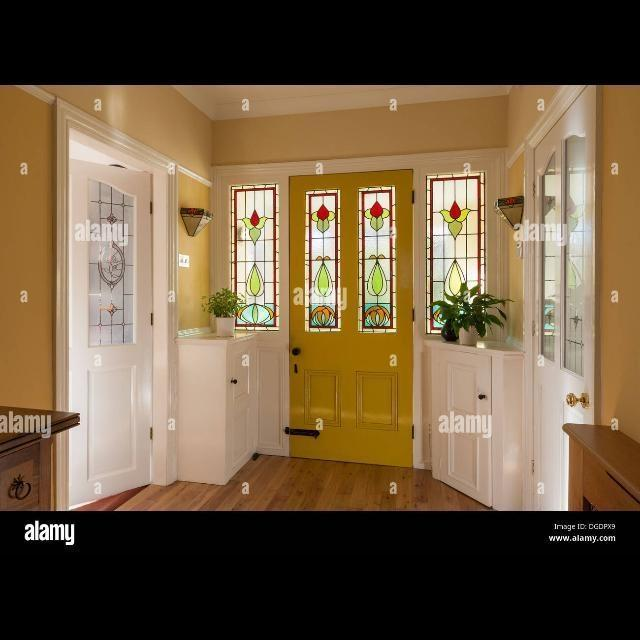door: (284, 167, 418, 469), (61, 136, 161, 496), (526, 87, 594, 510)
